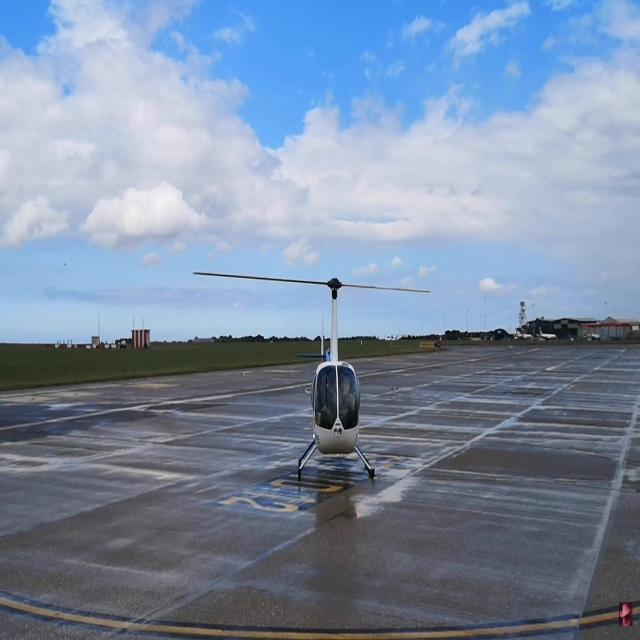CIV_HELO: (296, 276, 376, 484)
